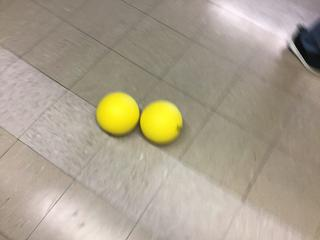power_cell: (95, 90, 141, 137), (138, 98, 185, 143)
